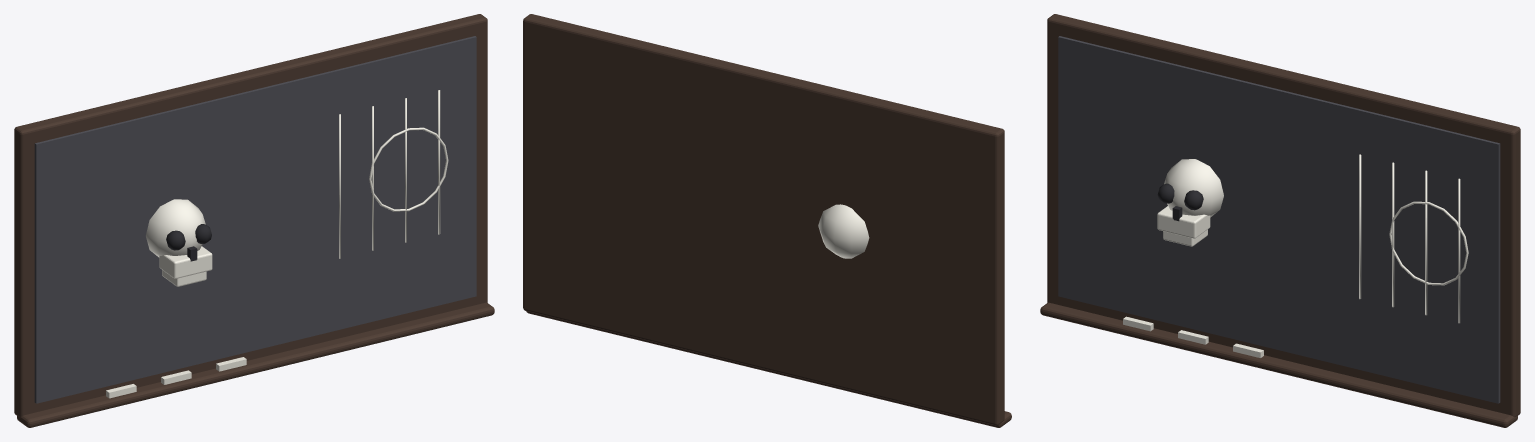
Rendered from blackboard_anatomy_slate.glb.
3 renders of one model, left to right at view 1: azimuth 30°, elevation 25°; view 2: azimuth 150°, elevation 25°; view 3: azimuth 330°, elevation 25°, orthographic.
Visible parts, largest first — view 1: GD_blackboard_anatomy_slate__m1, GD_blackboard_anatomy_slate__m0, GD_blackboard_anatomy_slate__m3, GD_blackboard_anatomy_slate__m2; view 2: GD_blackboard_anatomy_slate__m0, GD_blackboard_anatomy_slate__m3; view 3: GD_blackboard_anatomy_slate__m1, GD_blackboard_anatomy_slate__m0, GD_blackboard_anatomy_slate__m3, GD_blackboard_anatomy_slate__m2.
Part boxes in pixels (x1,y1,x2,y2): GD_blackboard_anatomy_slate__m1: (34, 36, 476, 403); GD_blackboard_anatomy_slate__m0: (14, 14, 494, 427); GD_blackboard_anatomy_slate__m3: (106, 90, 448, 398); GD_blackboard_anatomy_slate__m2: (166, 224, 211, 261); GD_blackboard_anatomy_slate__m0: (523, 14, 1011, 427); GD_blackboard_anatomy_slate__m3: (818, 204, 869, 258); GD_blackboard_anatomy_slate__m1: (1058, 36, 1500, 403); GD_blackboard_anatomy_slate__m0: (1040, 14, 1520, 427); GD_blackboard_anatomy_slate__m3: (1123, 154, 1468, 357); GD_blackboard_anatomy_slate__m2: (1157, 183, 1203, 221).
Size of the model in its own units: 1.7 by 1.01 by 0.2485.
